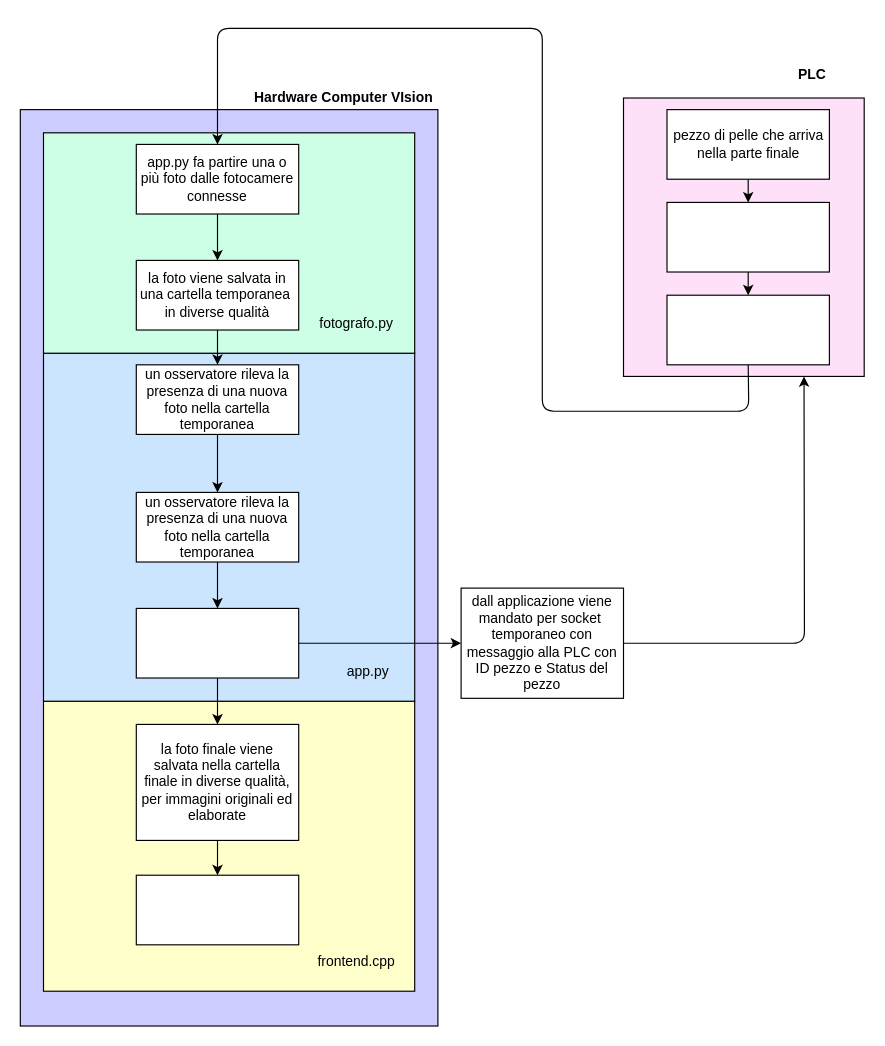
Some shapes in this 885 by 1046 pixel diagram are drawn without their labels. The shapes that lost their labels are listed below. From the top down, each one's centre as x and y in pixels, then its label:
pixel 747 236: sensore PLC rileva l'arrivo del pezzo
pixel 747 329: PLC manda un messaggio tramite socket
pixel 217 642: la foto viene elaborata dalla applicazione
pixel 217 909: il frontend richiede una foto da visualizzare e la prende dalla cartella finale
